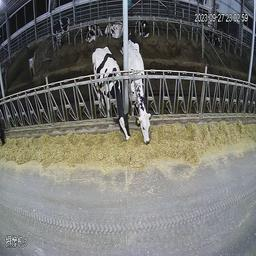cow: (91, 47, 128, 140), (125, 37, 154, 144), (52, 18, 72, 48), (202, 27, 222, 49), (105, 19, 124, 40), (137, 14, 152, 40), (85, 22, 102, 41)
